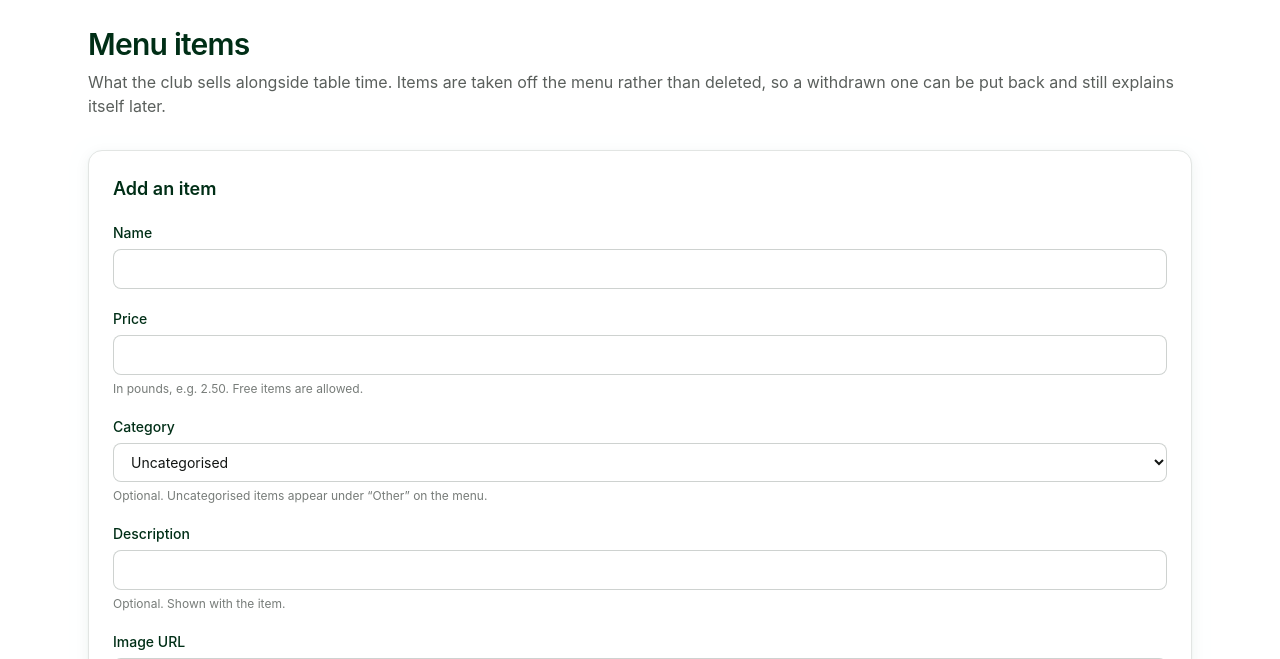
Test: AdminCafePage › refuses a negative price
Type "Refund special" into the field labelled "Name" at point(640, 269), box [113,249,1167,289]
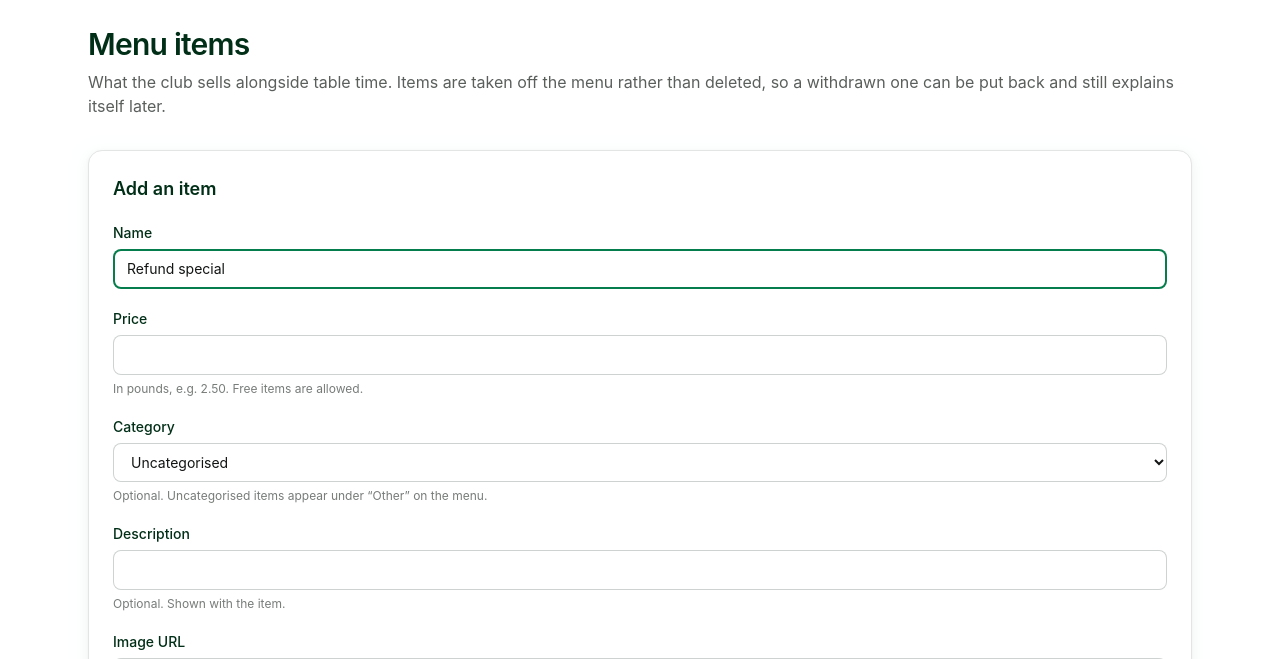
Type "-1" into the field labelled "Price" at point(640, 355), box [113,335,1167,375]
(page scrolled)
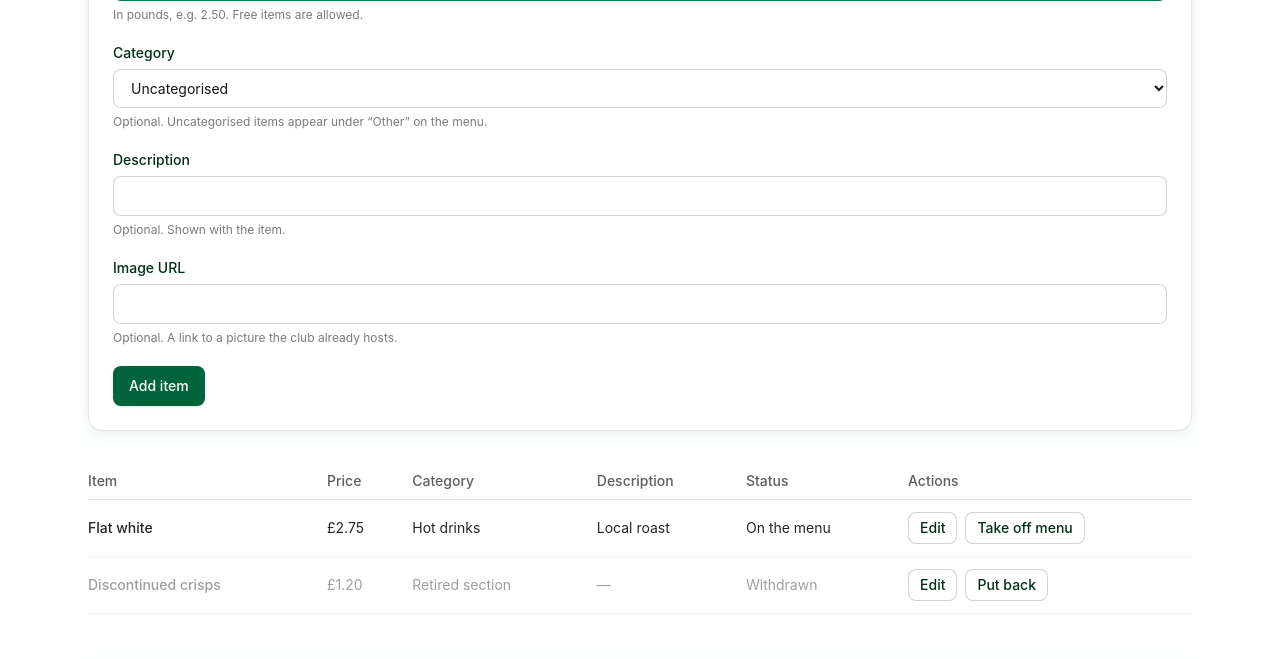
Click the button "Add item" at point(159, 386), box [113,366,205,406]
(page scrolled)
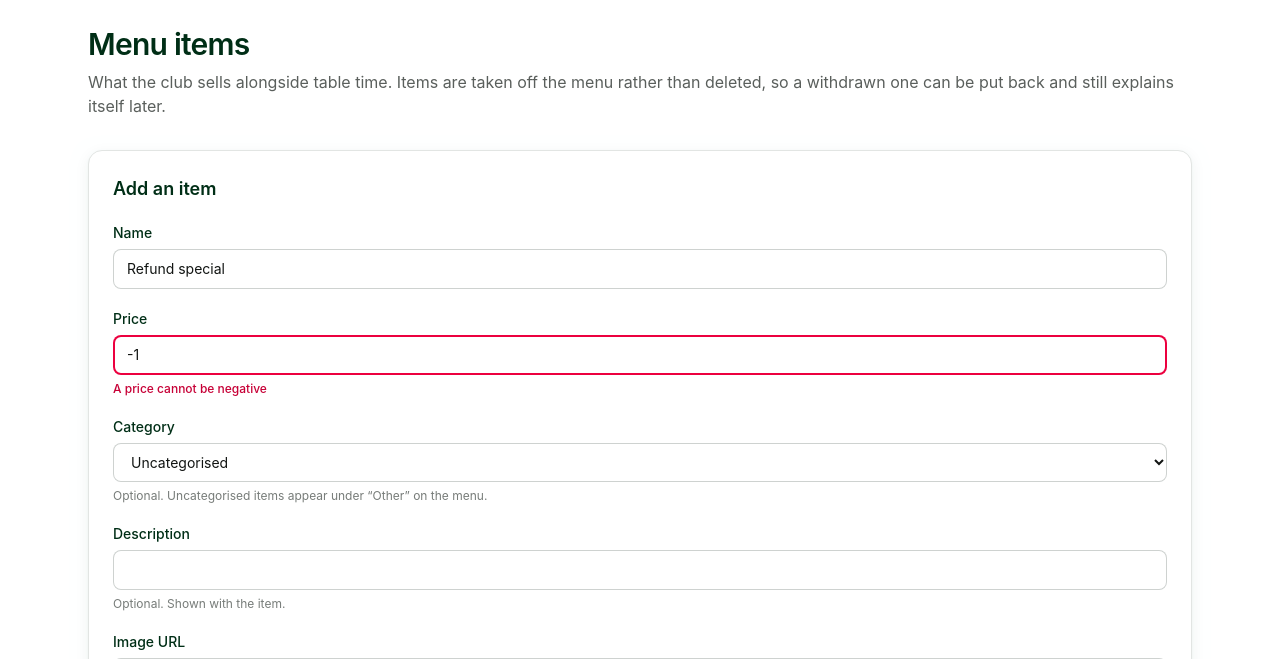
Expected: the text "A price cannot be negative" is shown, [113,381,267,396]
